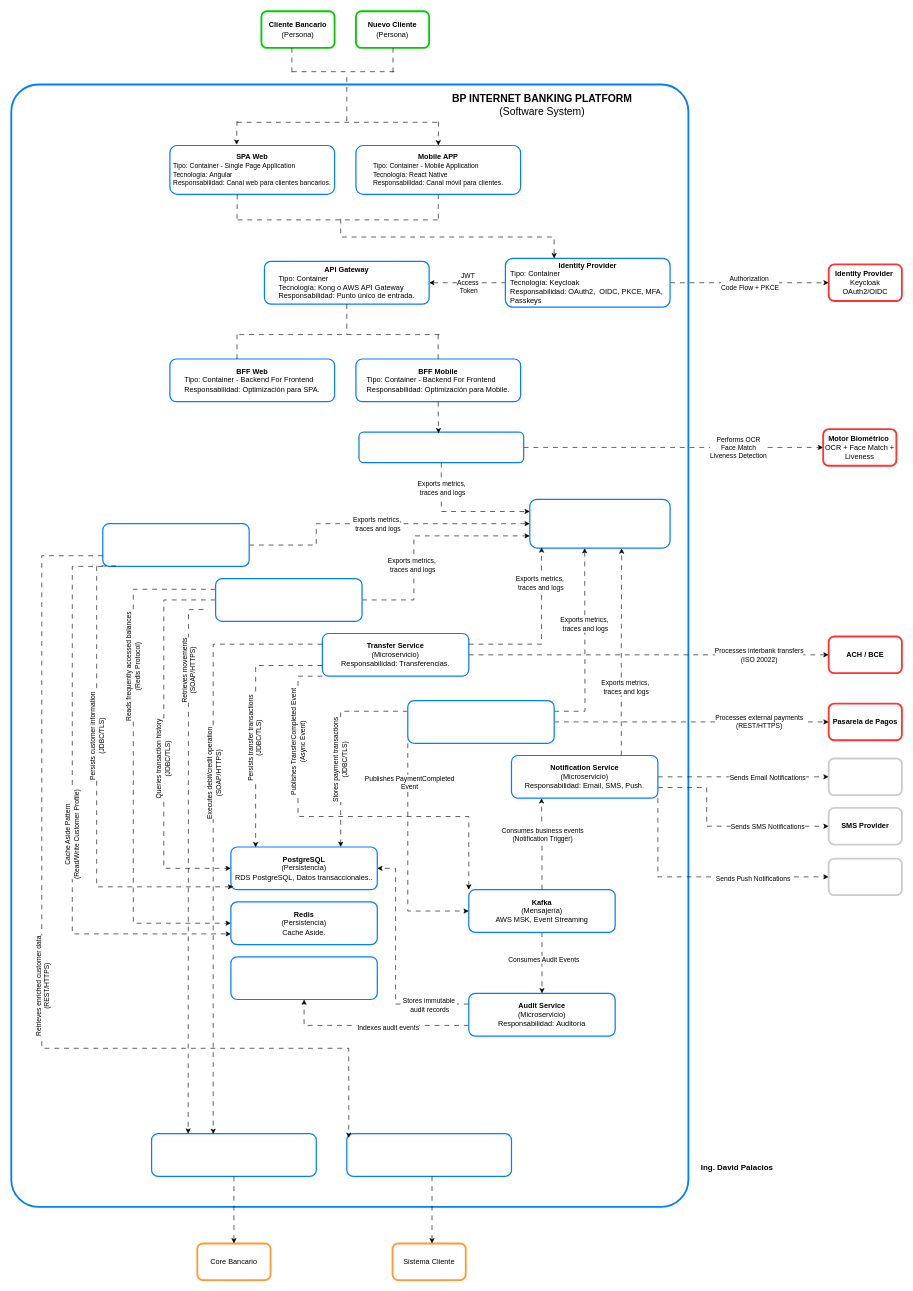
Image size: 913x1291. Some labels were removed from this diagram. The centre of each missing label's shape, as x and y in pixels:
AWS SES: point (864, 776)
Core Adapter ( Adaptador ) Integración Core Bancario: point (234, 1155)
Customer Detail Adapter (Adaptador) Sistema Cliente Complementario: point (429, 1155)
Customer Service (Microservicio) Responsabilidad: Información cliente .: point (175, 545)
Elasticsearch (Persistencia) Consultas auditoría .: point (304, 978)
Movement Service (Microservicio) Responsabilidad: Movimientos .: point (288, 600)
Observability Stack Prometheus, Grafana, CloudWatch, OpenTelemetry: point (599, 523)
Onboarding Service: point (441, 447)
Payment Service (Microservicio) Responsabilidad: Pagos .: point (480, 722)
Push Provider: point (864, 876)
